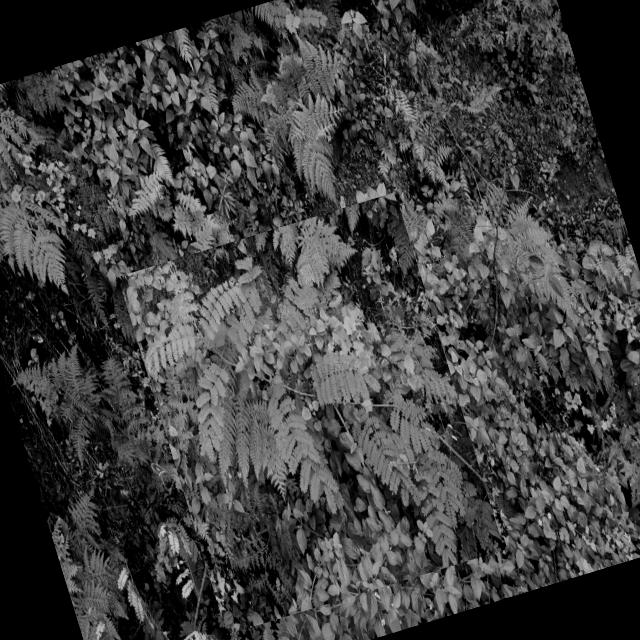Mysore-Thorn-Weed: (118, 192, 504, 634)
